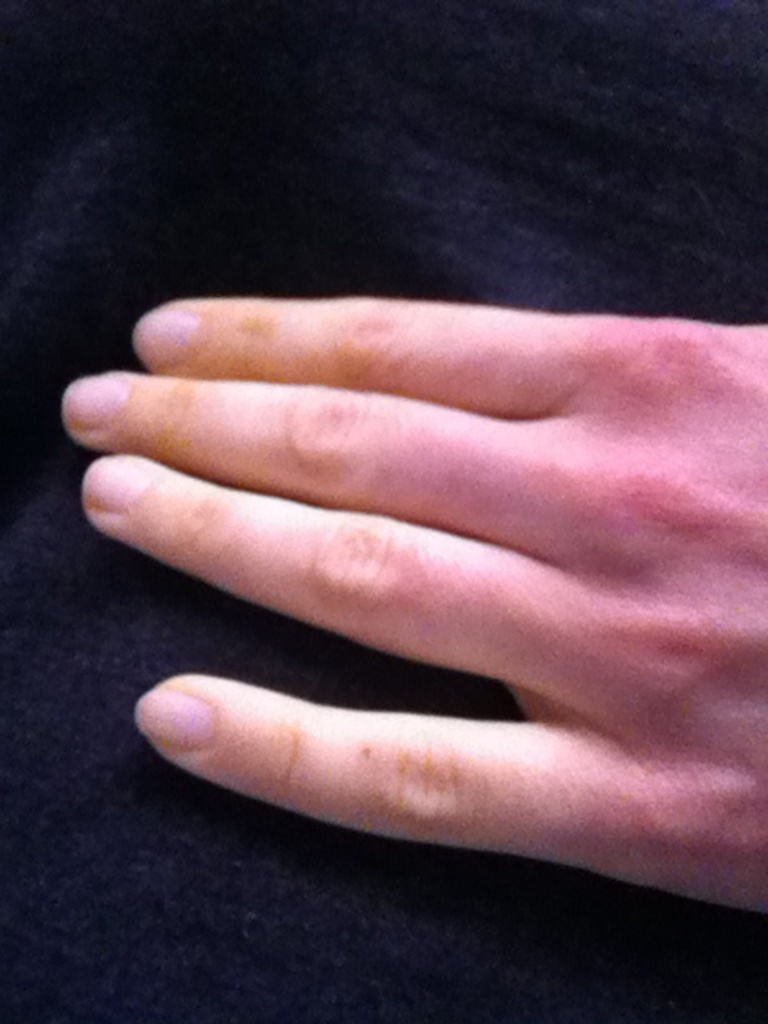Human_hand: (62, 298, 766, 918)
